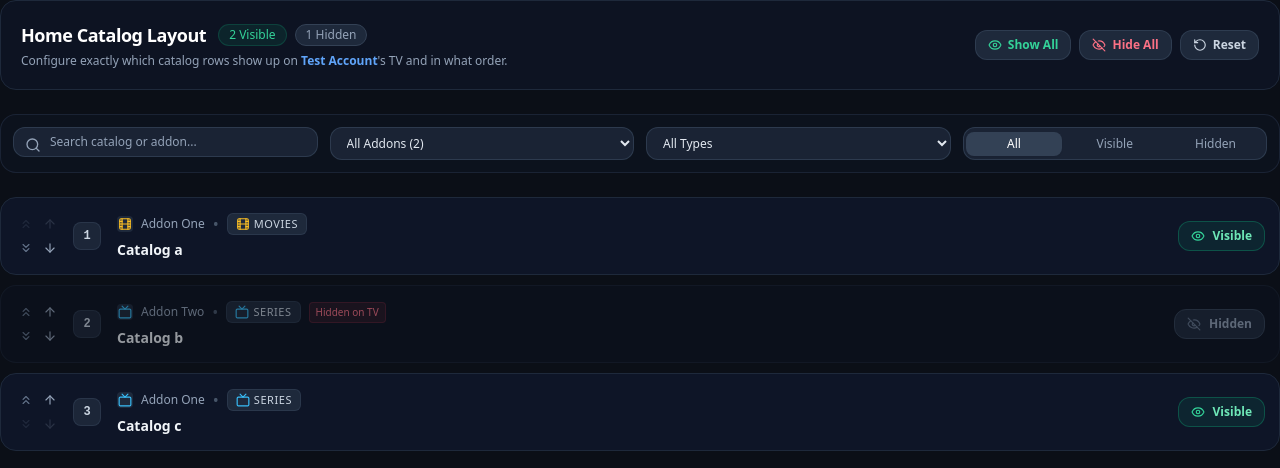
Test: CatalogManager › status filter (Visible/Hidden) narrows the list
Click the 1st button "Hidden". click: (1216, 144)
box: top-left (1167, 132), bottom-right (1264, 156)
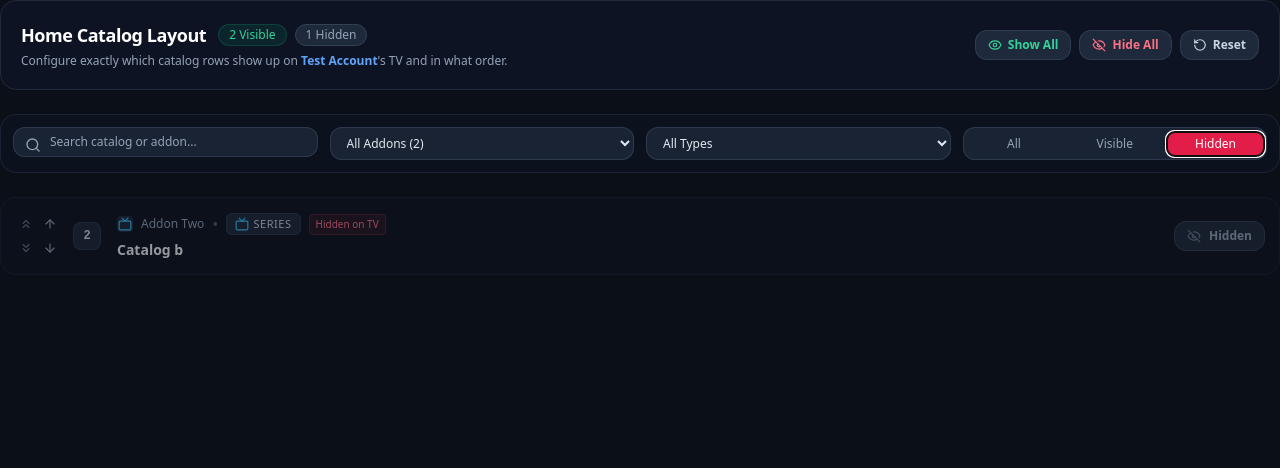
Expected: the heading "Catalog b" is shown, top-left (117, 240), bottom-right (183, 260)
Click "Visible" to show only visible rows.
Click the button "Visible". click: (1115, 144)
box: top-left (1066, 132), bottom-right (1163, 156)
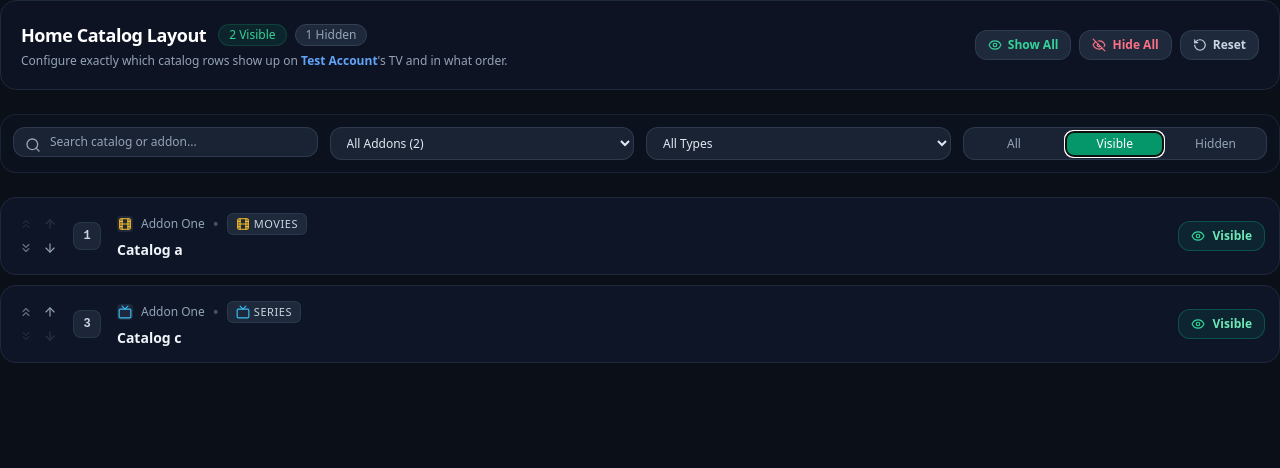
Expected: the heading "Catalog a" is shown, top-left (117, 240), bottom-right (183, 260)
Expected: the heading "Catalog c" is shown, top-left (117, 328), bottom-right (182, 348)
